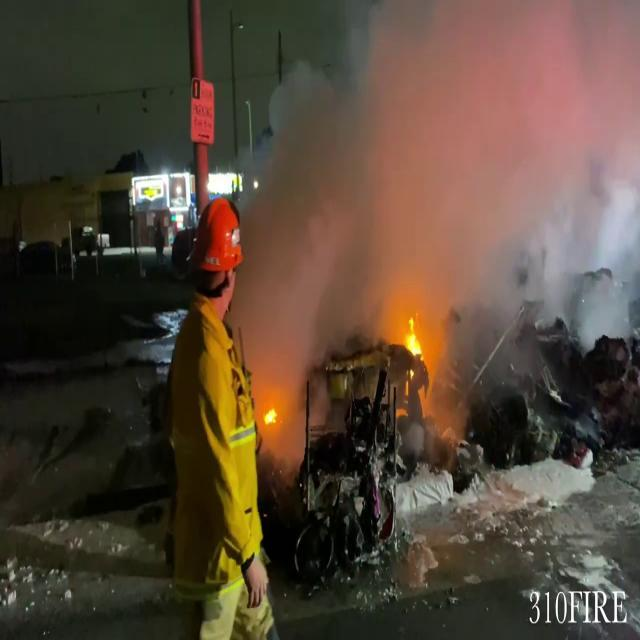Fire: (396, 310, 432, 390)
Smoke: (226, 0, 640, 357)
